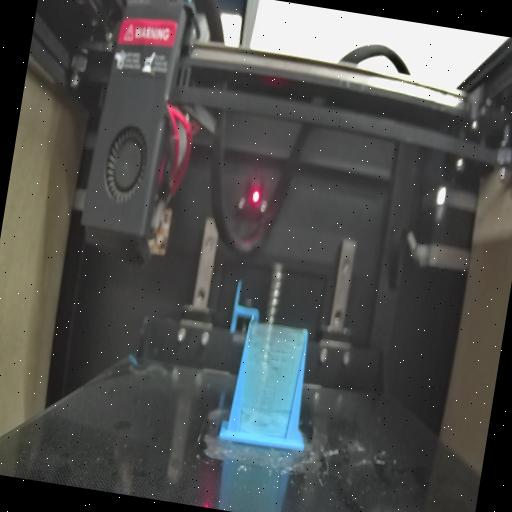stringing: (234, 322, 305, 436)
